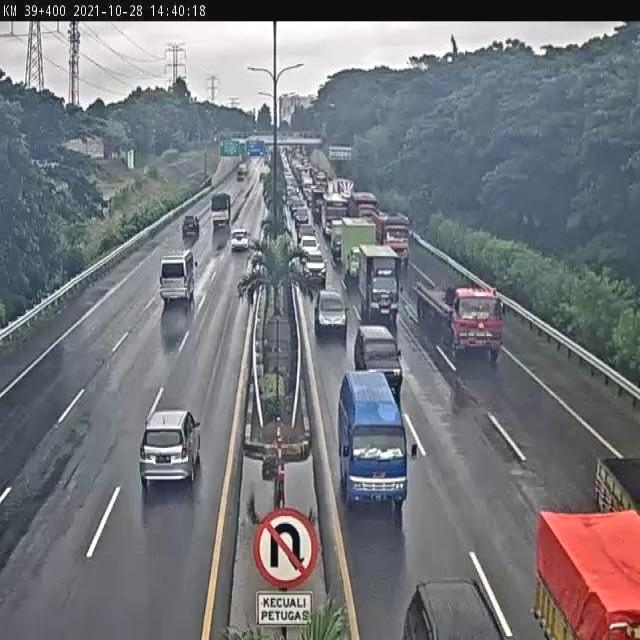Car: (130, 366, 209, 512), (336, 371, 409, 512), (399, 576, 513, 638), (354, 324, 403, 398), (301, 248, 327, 286), (182, 215, 200, 241)
Truck: (533, 509, 639, 640), (413, 280, 503, 366), (249, 474, 317, 539), (355, 242, 402, 328), (594, 455, 638, 516), (259, 304, 292, 382), (160, 248, 197, 304), (377, 212, 412, 268), (258, 371, 290, 428), (313, 290, 348, 341), (161, 300, 193, 350), (336, 124, 366, 173), (322, 193, 349, 240), (348, 192, 378, 220), (278, 439, 311, 463), (211, 193, 231, 230), (444, 284, 470, 310), (311, 184, 328, 223), (88, 196, 111, 222), (346, 247, 362, 284), (247, 251, 266, 282), (281, 195, 296, 233), (331, 178, 355, 201), (289, 256, 304, 289), (330, 228, 343, 265), (230, 228, 250, 252), (262, 453, 279, 481), (298, 224, 316, 250), (213, 223, 230, 250), (259, 218, 272, 252), (354, 328, 365, 368), (290, 151, 305, 179), (262, 179, 274, 212), (312, 169, 327, 193), (328, 146, 353, 160), (35, 159, 61, 172), (286, 188, 300, 212), (299, 168, 312, 193), (293, 207, 308, 228), (247, 140, 265, 156), (244, 174, 257, 196), (238, 147, 249, 171), (248, 280, 257, 308), (303, 183, 313, 205), (323, 218, 333, 240), (304, 279, 314, 301), (282, 146, 294, 163), (255, 332, 262, 361), (237, 163, 248, 181), (273, 136, 294, 145), (127, 149, 135, 170), (297, 131, 317, 139), (405, 214, 414, 230), (201, 175, 212, 188), (238, 140, 246, 157), (266, 145, 275, 160), (351, 247, 360, 262), (501, 300, 508, 318), (218, 136, 230, 146), (314, 288, 320, 308), (253, 160, 262, 173), (90, 152, 104, 160), (261, 168, 270, 180), (321, 136, 328, 148), (246, 138, 254, 148), (256, 136, 263, 146), (212, 133, 218, 143), (238, 167, 244, 176), (194, 260, 198, 267)
